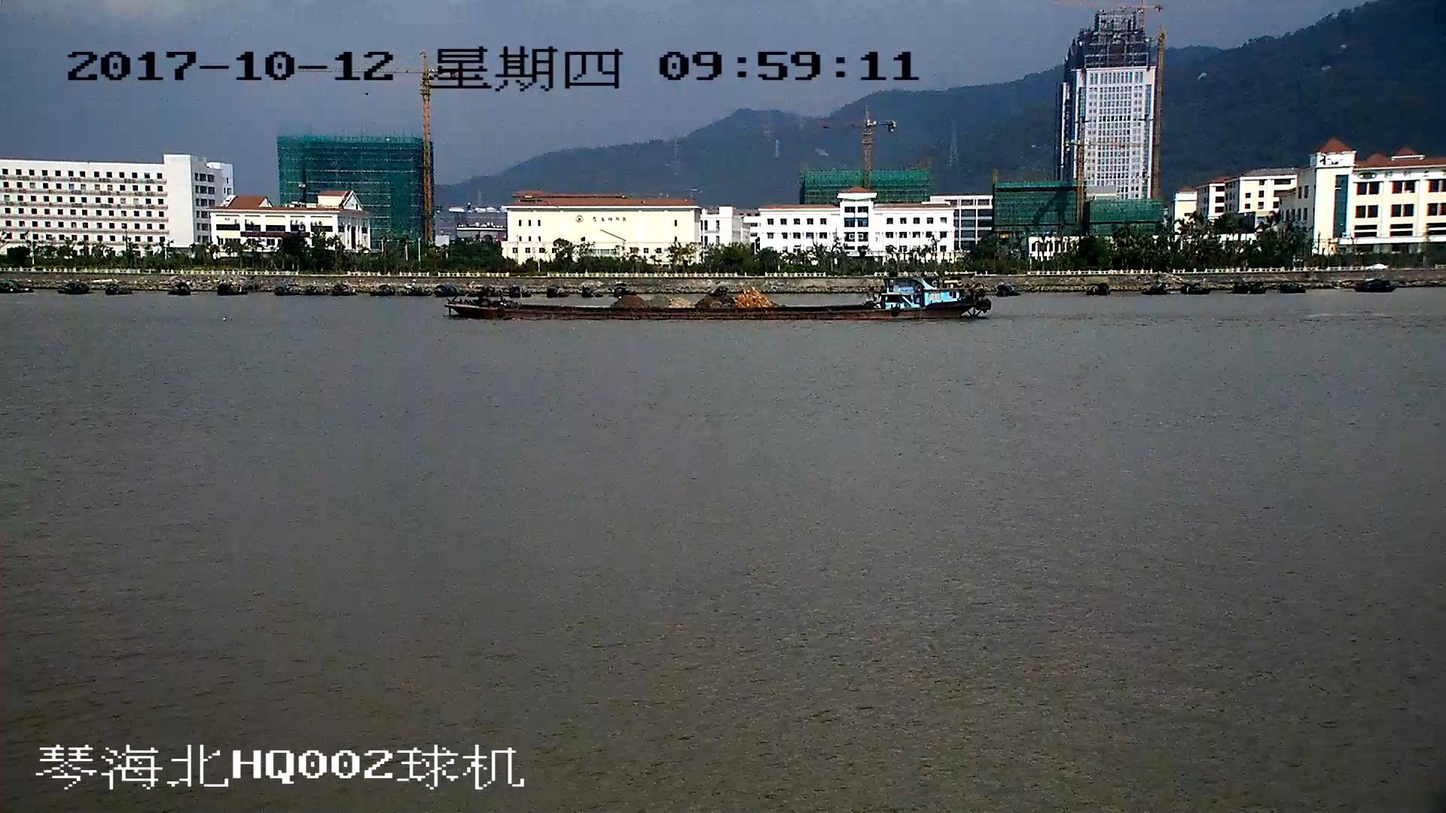ore carrier: (450, 274, 992, 321)
